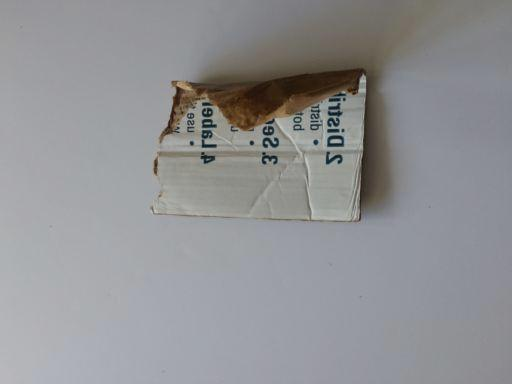cardboard: (150, 68, 369, 221)
